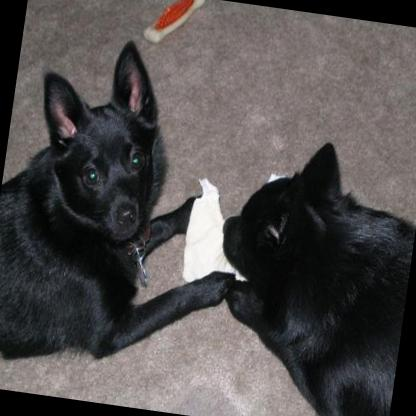schipperke: (0, 23, 263, 386), (192, 120, 416, 416)
